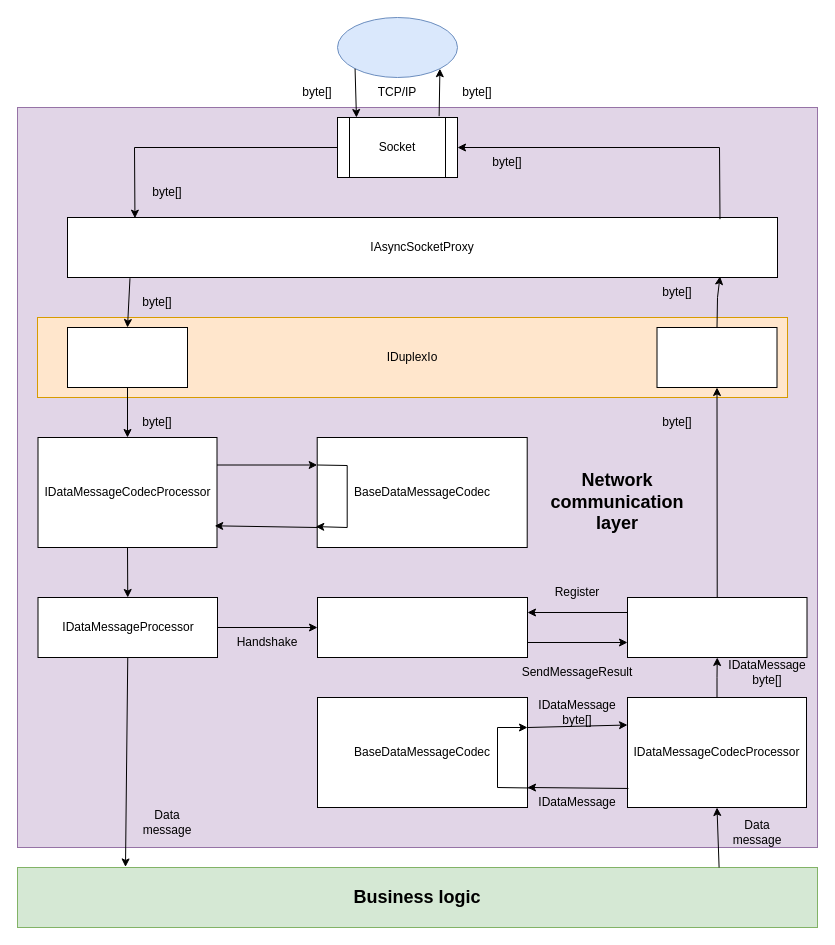
Image size: 835x945. Some labels were removed from this diagram. The box of each missing label's shape, as (x1, y1, x2, y2) in pixels:
Device: (336, 16, 458, 78)
IDuplexIOReceiver: (66, 326, 188, 388)
IDuplexIoSender: (656, 326, 777, 388)
ISendPacketProcess: (626, 596, 807, 658)
IWaitStateManager: (316, 596, 528, 658)
